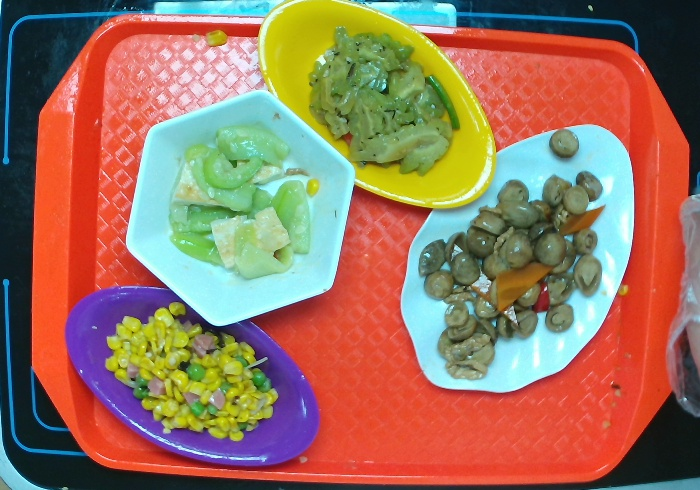RJxy-Bai_Ye_Pan: (389, 115, 639, 401)
RJxy-Fen_Hong_Tuo_Yuan: (61, 273, 328, 476)
RJxy-Huang_Se_Tuo_Yuan: (248, 1, 500, 217)
RJxy-Liu_Jiao_Wan: (124, 84, 359, 331)
